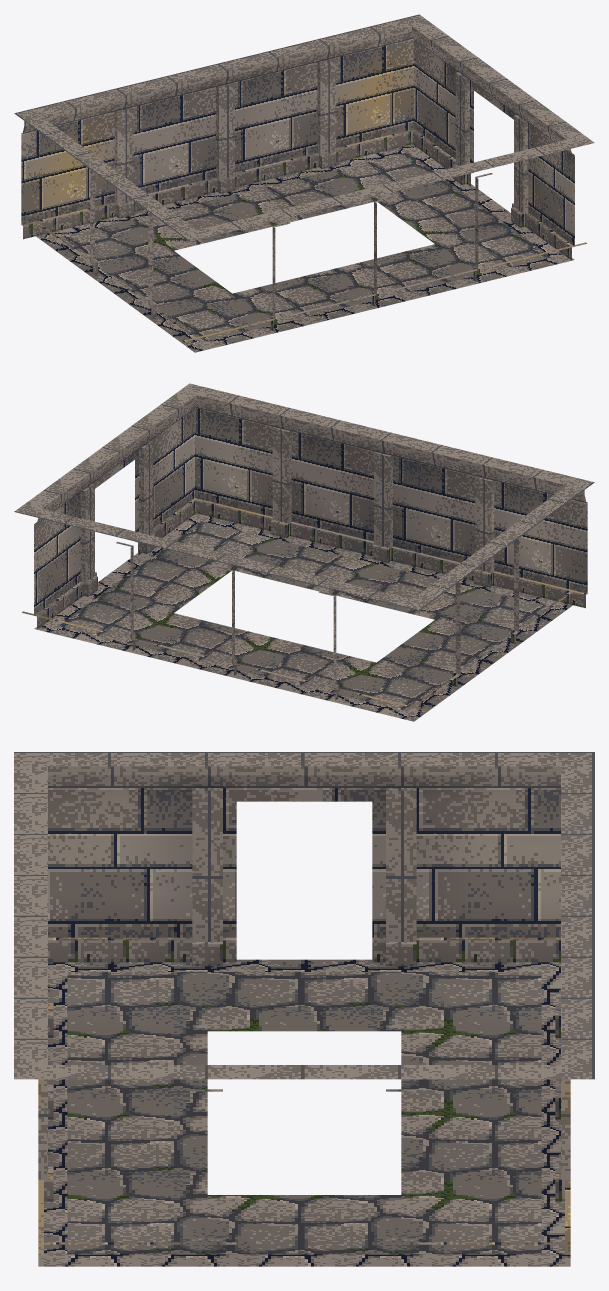
Rendered from dgn.room__pit.glb.
The picture shows the model from 3 angles, top to bottom: view 1: azimuth 30°, elevation 25°; view 2: azimuth 150°, elevation 25°; view 3: azimuth 270°, elevation 25°; orthographic projection. The views are drawn at different scales.
Visible parts, largest first — view 1: kit_shell_walls, kit_shell_floor; view 2: kit_shell_walls, kit_shell_floor; view 3: kit_shell_walls, kit_shell_floor.
Part boxes in pixels (x1=…): kit_shell_walls: x1=14, y1=14, x2=594, y2=342; kit_shell_floor: x1=36, y1=144, x2=574, y2=352; kit_shell_walls: x1=14, y1=383, x2=594, y2=711; kit_shell_floor: x1=34, y1=513, x2=572, y2=721; kit_shell_walls: x1=14, y1=752, x2=594, y2=1254; kit_shell_floor: x1=38, y1=959, x2=570, y2=1266.
Size of the model in its own units: 16 by 4.5 by 12.
5 materials, 5 textured.
